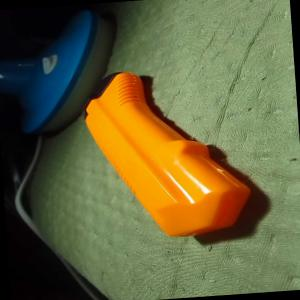estilete: (80, 63, 254, 244)
